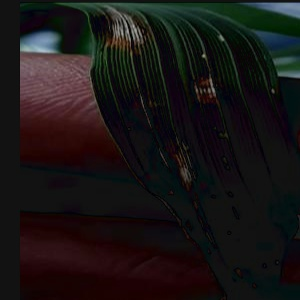Brown_Spot: (138, 130, 217, 194), (90, 3, 148, 64), (182, 67, 227, 110), (269, 179, 300, 236), (244, 232, 276, 255)
